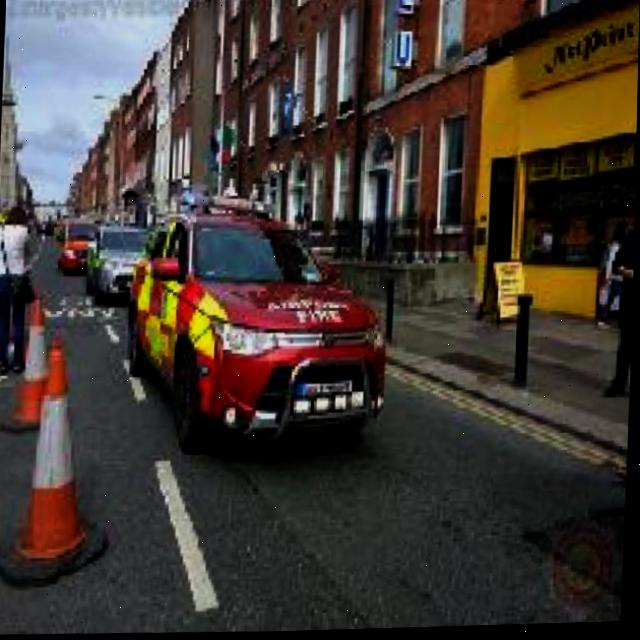emergency: (121, 196, 396, 461), (88, 217, 157, 308), (55, 210, 110, 276)
